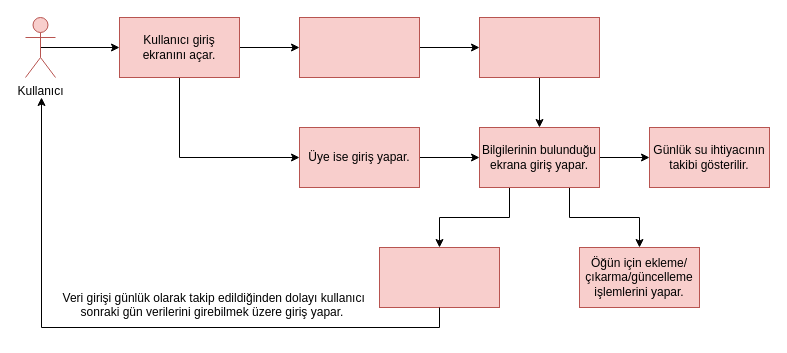
The diagram is 787 pixels wide and 353 high, and some of its shapes have lost their labels. The shapes that lost their labels are listed below. From the top down, each one's centre as x and y in pixels, then its label:
At point 359,47: "Üye olur.".
At point 539,47: "Bilgilerini sisteme girer.".
At point 439,277: "Raporlama işlemleri günlük/haftalık/aylık gerçekleştirir.".
